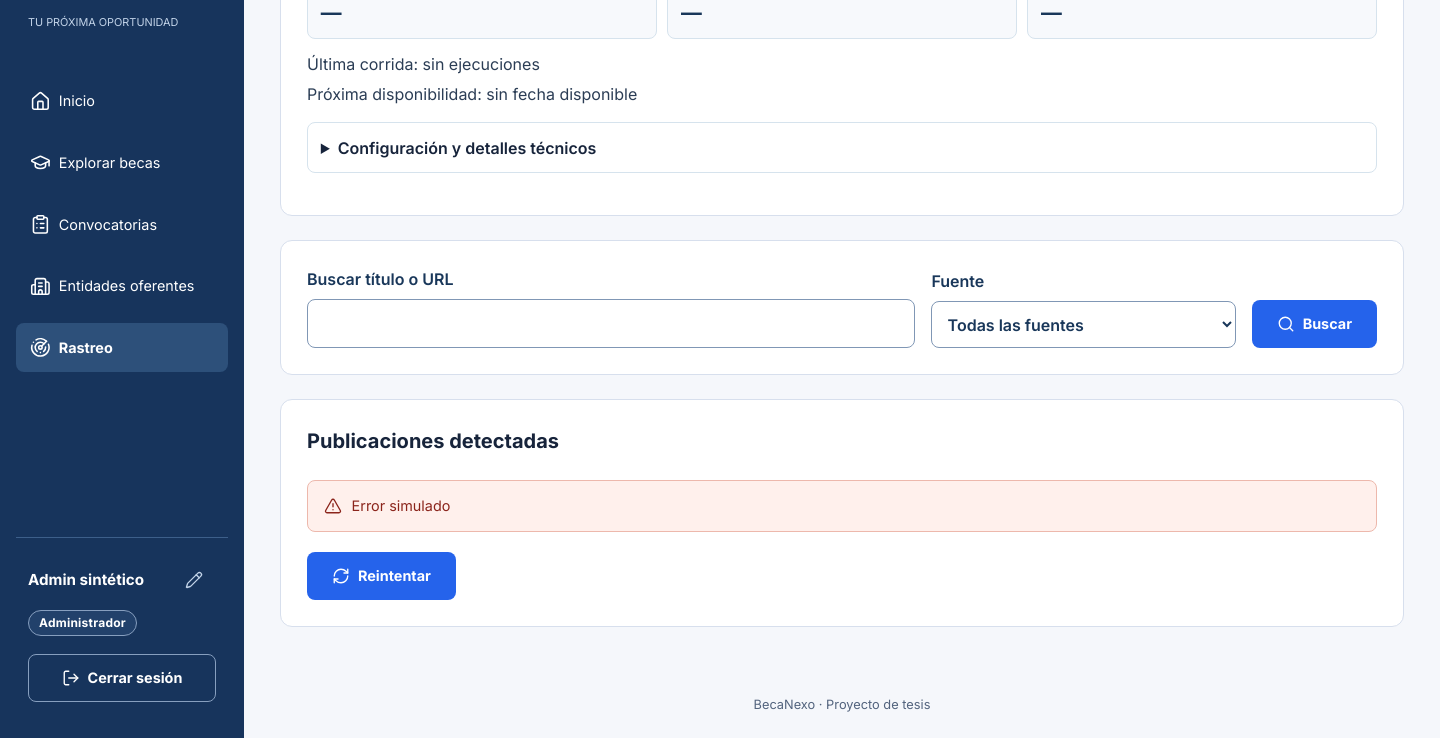
Test: muestra carga, error, reintento y vacío sin acciones editoriales
(page scrolled)
Check: the text "Error simulado" is shown, box [352,495,450,517]
Click the button "Reintentar". click: click(381, 576)
box: [307,552,456,600]
(page scrolled)
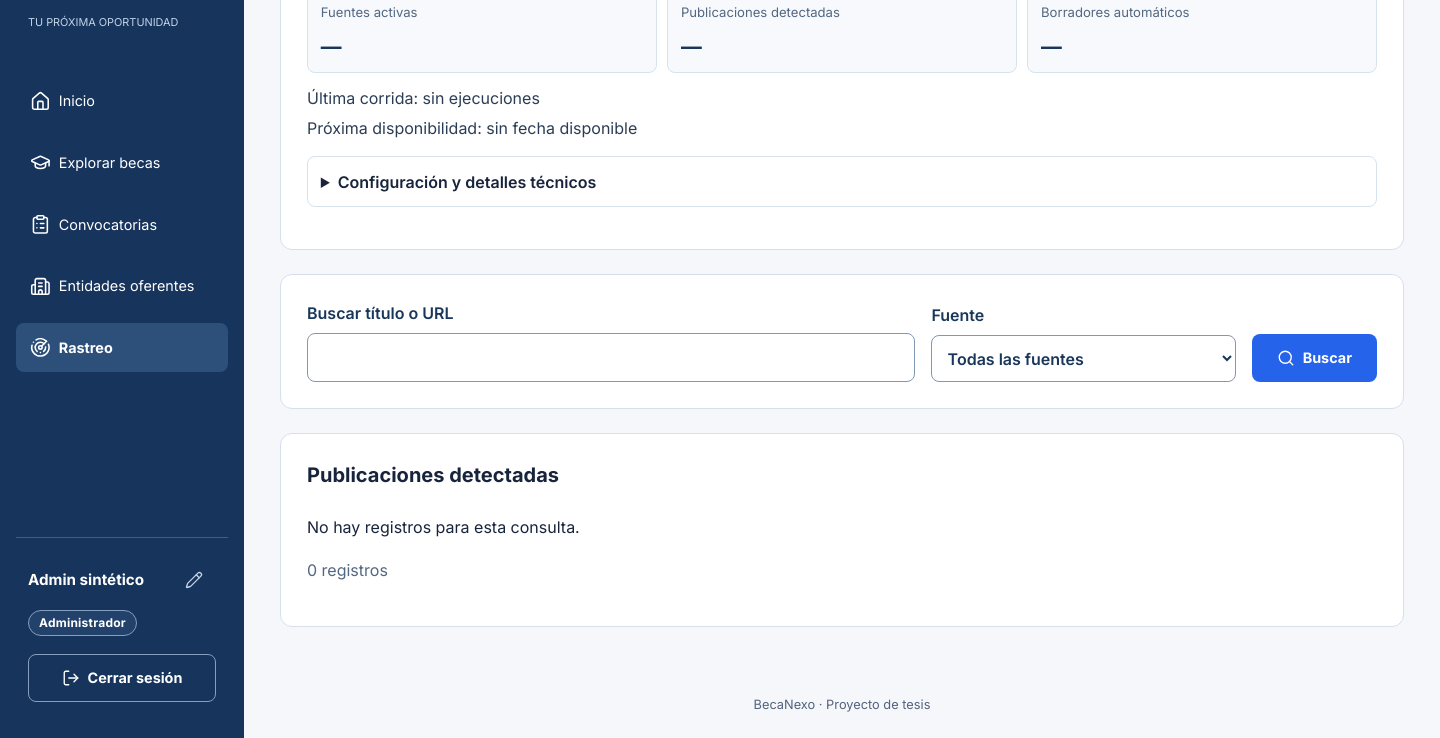
Check: the button "Cerrar sesión" is shown, box [28,654,216,702]
Check: the text "No hay registros para esta consulta." is shown, box [307,517,580,537]
